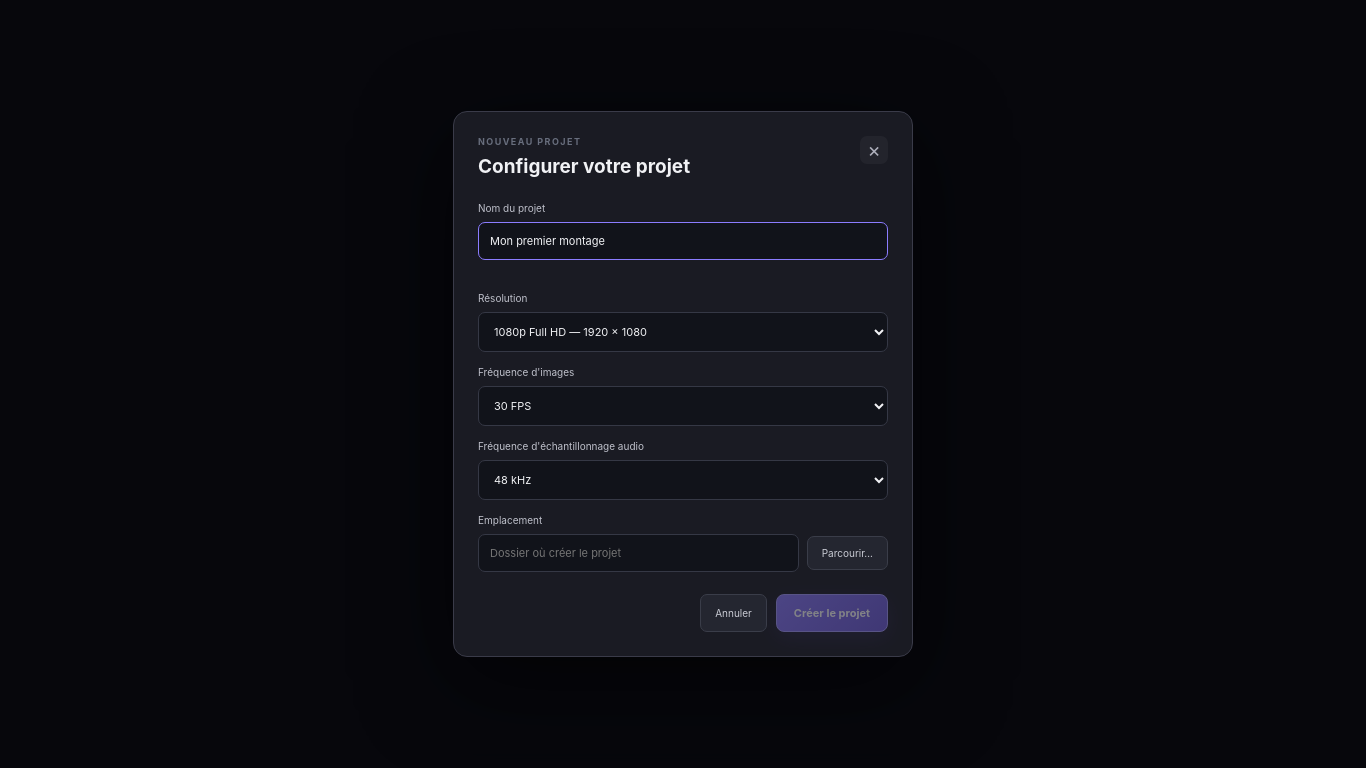
CreateProjectDialog › affiche le chemin du fichier qui sera créé
Type "C:\\Projets\\" into the field named "Emplacement du projet".
click(638, 553); type("C:\\Projets\\")  # box [478, 534, 799, 572]
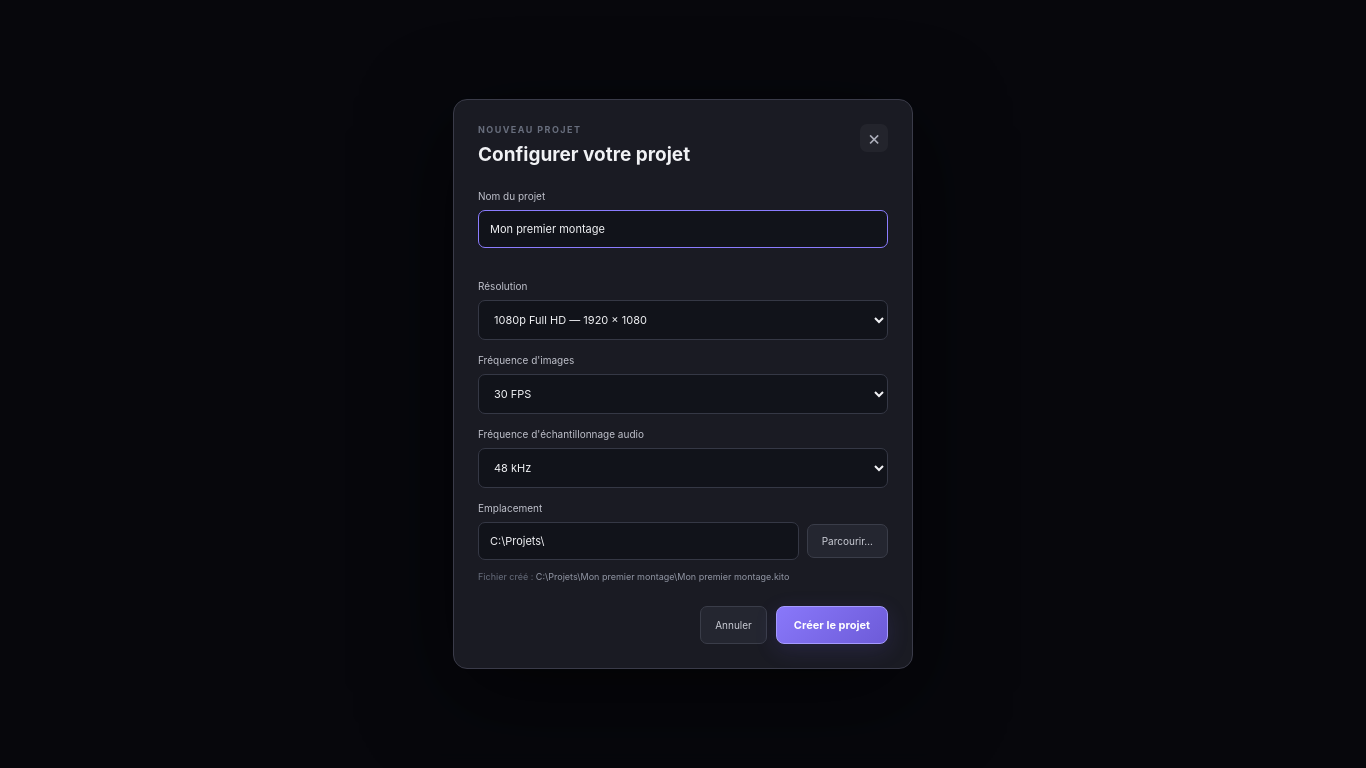
Expected: the text "C:\\Projets\\Mon premier montage\\Mon premier montage.kito" is shown, [536, 571, 789, 582]
